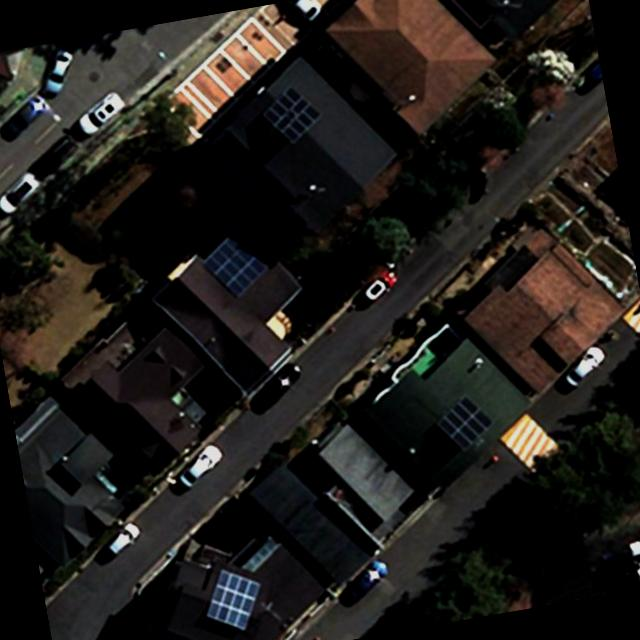solar: (196, 225, 272, 303), (198, 562, 270, 637), (258, 77, 328, 149), (431, 391, 496, 456)
